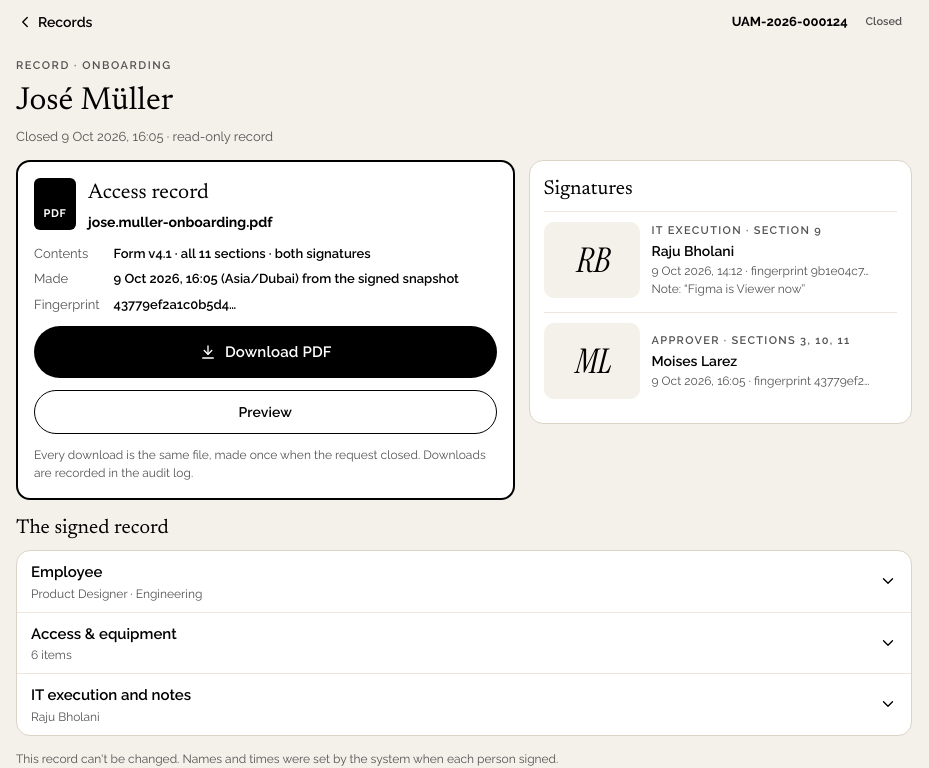
RecordView › the signed record opens in place
Click the text "Access & equipment": (104, 634) [31,624,177,642]
(page scrolled)
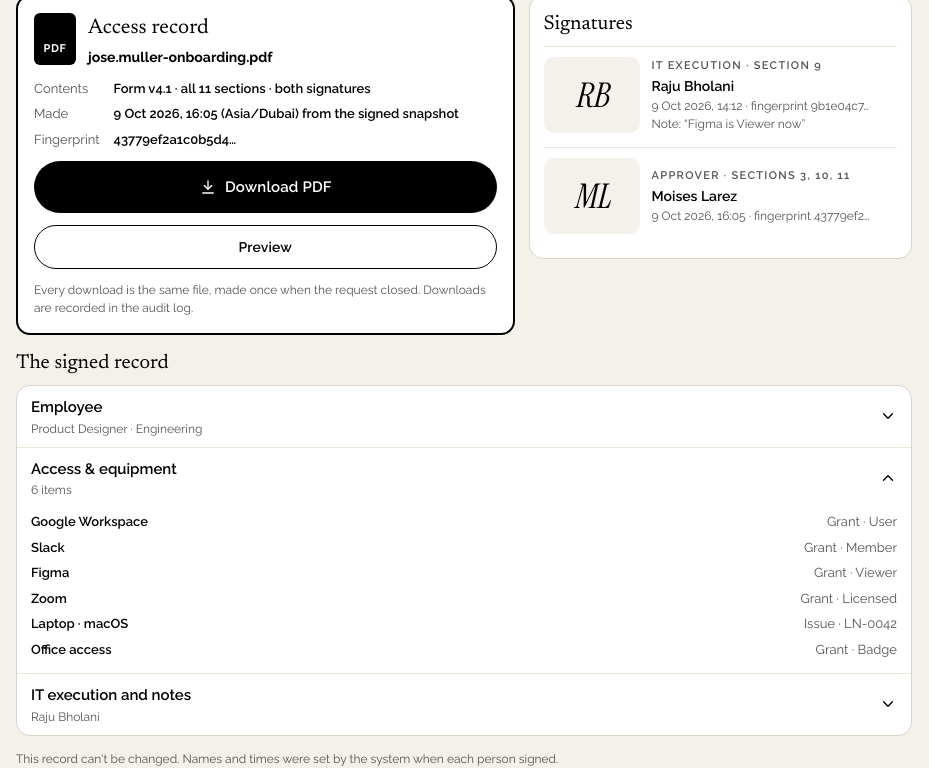
Expected: the text "Grant · Licensed" is shown, [800,588,897,608]
